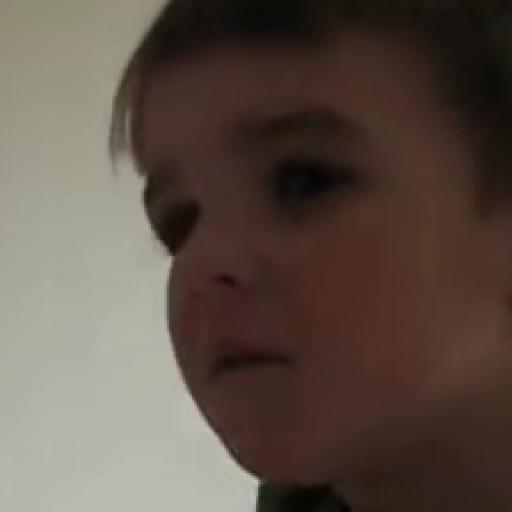Autism: (117, 20, 512, 512)
